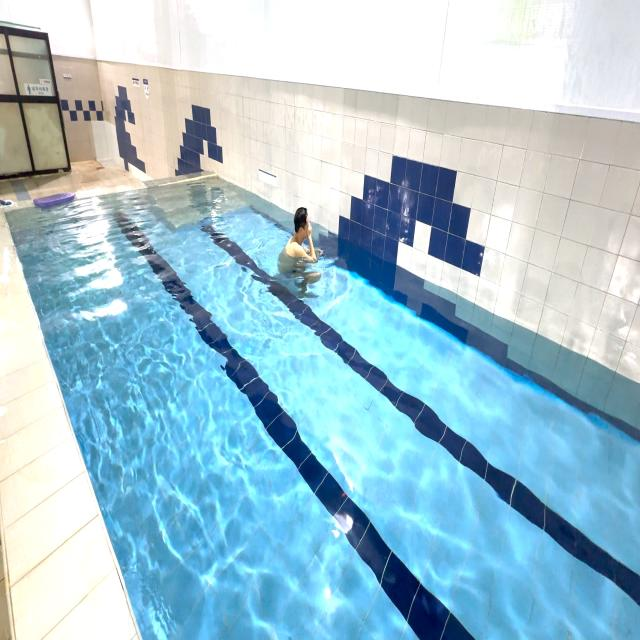Swimming: (274, 196, 327, 304)
